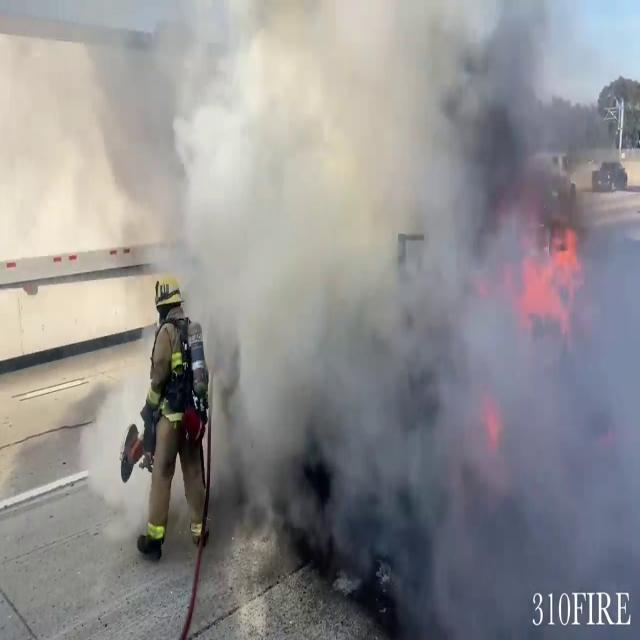Smoke: (65, 0, 637, 623)
